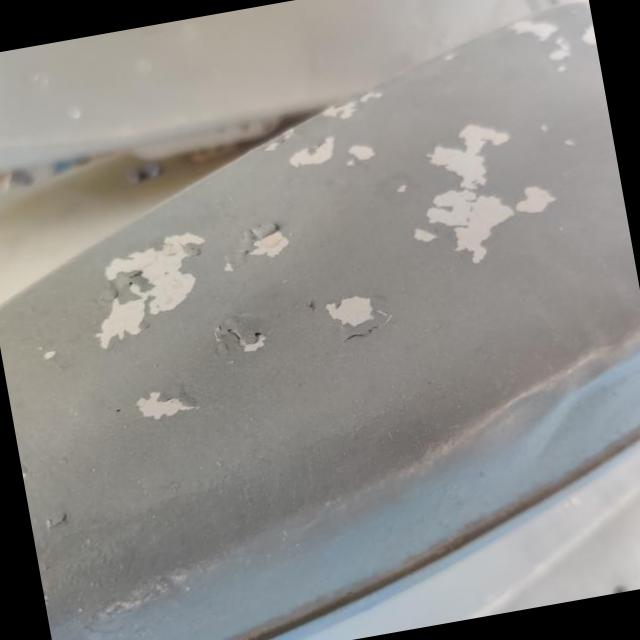Paint-off: (427, 123, 557, 262), (95, 232, 204, 348), (511, 18, 573, 70), (327, 295, 393, 340), (213, 317, 267, 355), (136, 392, 194, 419), (289, 136, 334, 167), (249, 224, 288, 257), (322, 100, 357, 117), (349, 143, 376, 159), (582, 22, 597, 45), (360, 91, 384, 102), (348, 158, 356, 165)
